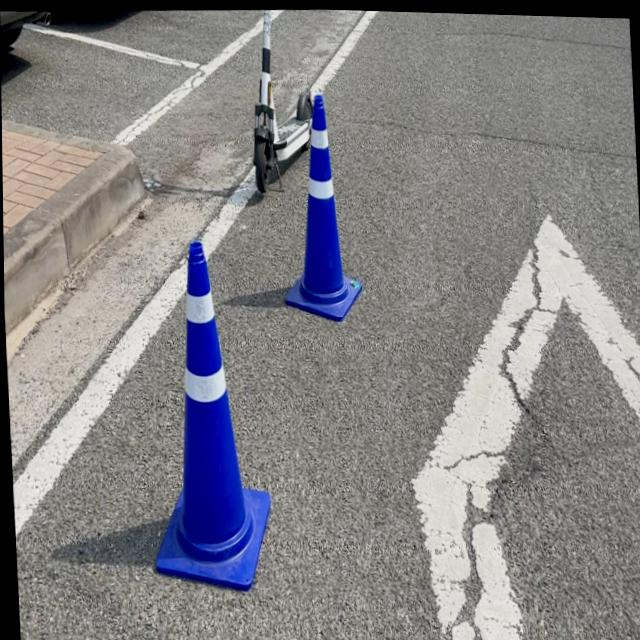b_rub: (154, 238, 268, 588), (284, 90, 361, 317)
